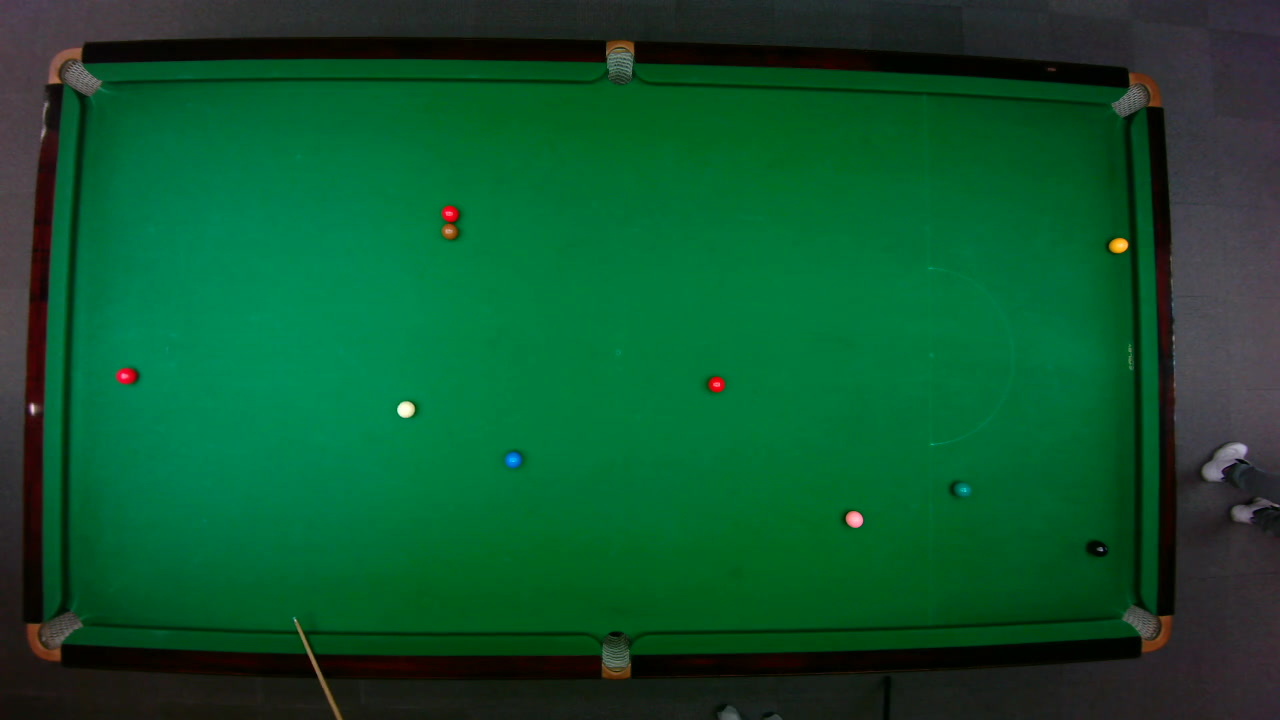bag: (25, 609, 84, 662), (46, 46, 101, 96), (1119, 603, 1172, 652), (1108, 71, 1161, 118), (601, 629, 629, 680), (605, 38, 633, 85)
black: (1087, 539, 1108, 557)
blue: (503, 450, 522, 468)
brown: (440, 223, 458, 240)
cue: (292, 616, 342, 720)
green: (951, 480, 972, 497)
pink: (843, 509, 864, 528)
red: (114, 365, 138, 384), (706, 374, 725, 393), (439, 204, 459, 222)
white: (395, 399, 415, 418)
yellow: (1107, 236, 1129, 253)
zone: (927, 266, 1014, 445)
